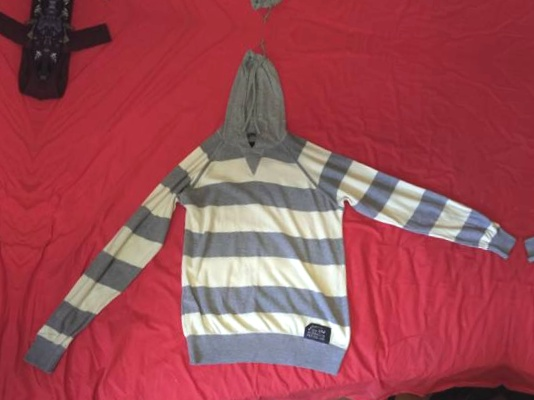Hoodie: (38, 33, 523, 400), (86, 0, 534, 39), (0, 0, 17, 362), (514, 93, 534, 400)
